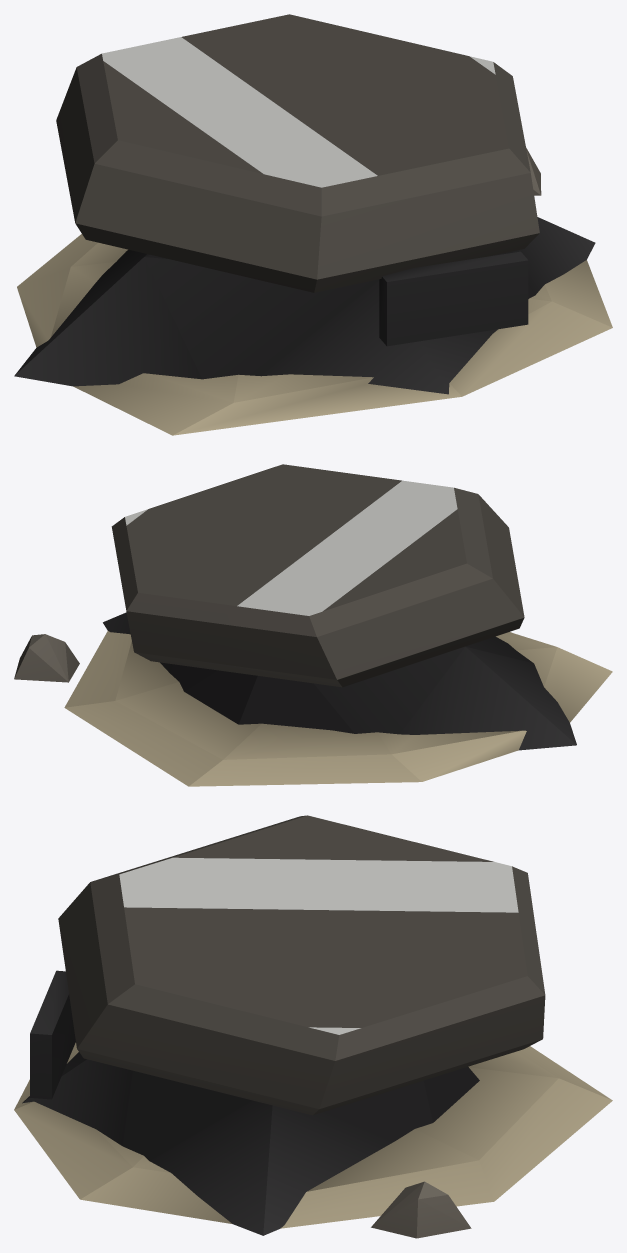
Rendered from reef_rock_c.glb.
3 renders of one model, top to bottom at view 1: azimuth 30°, elevation 25°; view 2: azimuth 150°, elevation 25°; view 3: azimuth 270°, elevation 25°, orthographic. The views are drawn at different scales.
Visible parts, largest first — view 1: body; view 2: body; view 3: body.
Boxes of the visible parts, left/top/right/bottom form: body: left=14, top=14, right=612, bottom=435; body: left=14, top=464, right=612, bottom=786; body: left=14, top=815, right=612, bottom=1238.
Size of the model in its own units: 1.55 by 0.5215 by 1.35.
